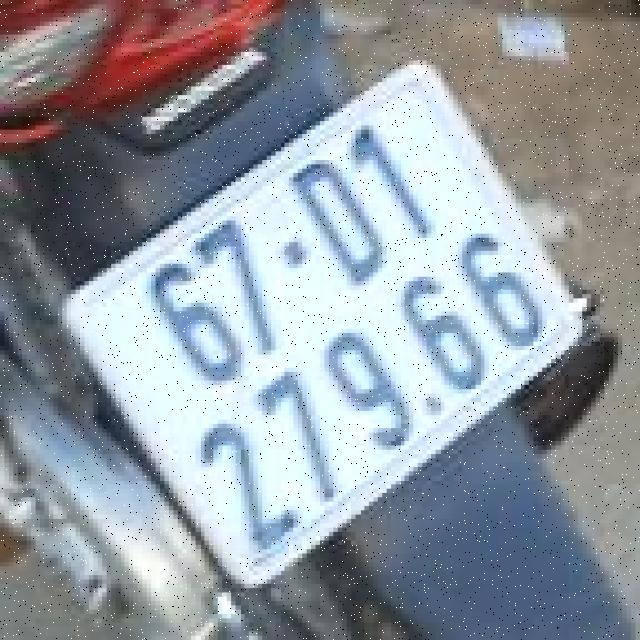1: (334, 111, 450, 258)
2: (175, 406, 317, 567)
6: (131, 248, 258, 403), (384, 264, 503, 406), (447, 221, 557, 362)
7: (179, 209, 311, 368), (244, 363, 374, 513)
9: (310, 317, 435, 464)
D: (274, 142, 407, 301)
